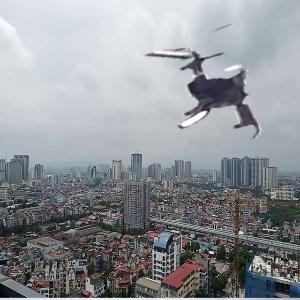drone: (153, 33, 277, 157)
